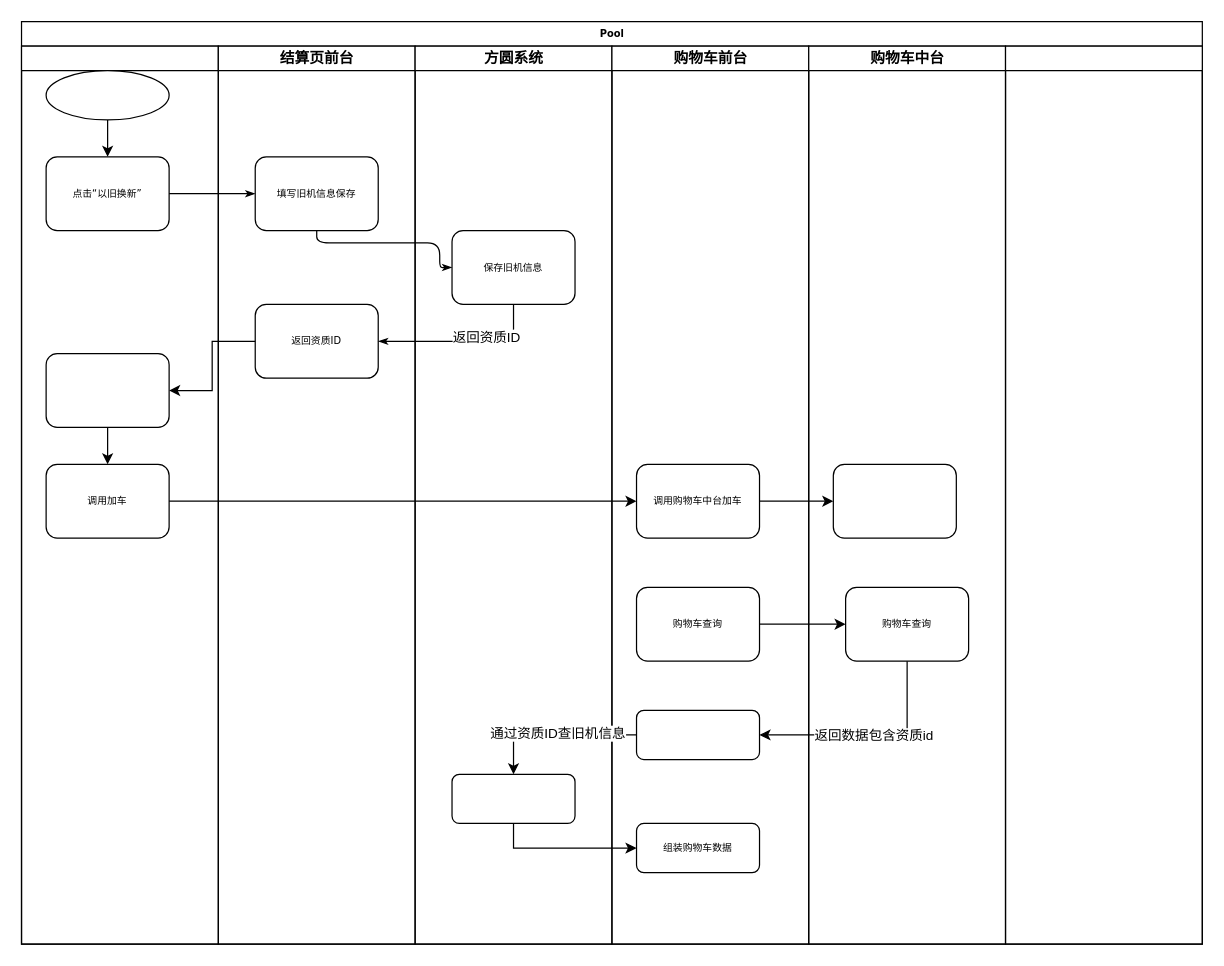
The diagram is 1224 pixels wide and 966 high, and some of its shapes have lost their labels. Each missing label, with the box of its shape:
Lane 6: (1004, 45, 1202, 944)
加车: (832, 463, 956, 538)
商详前台: (20, 45, 218, 944)
带着资质ID拼加车入参: (45, 352, 169, 427)
开始: (45, 69, 169, 120)
查旧机信息: (451, 773, 575, 823)
购物车主数据: (635, 709, 760, 760)
